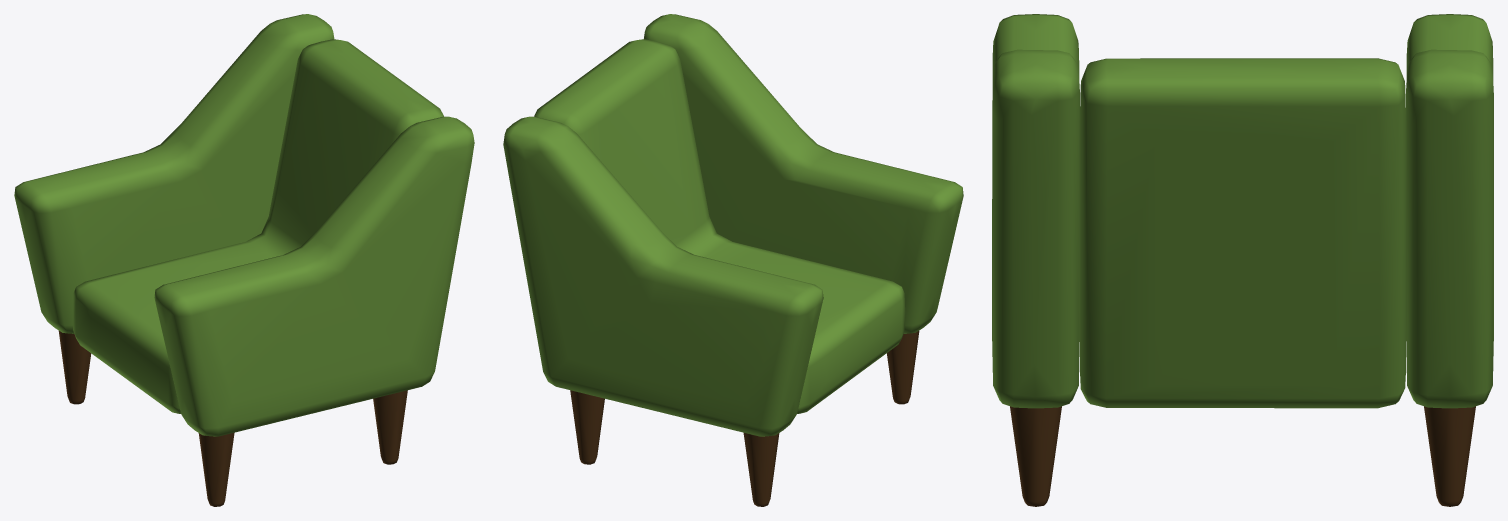
The model's file is armchair_01_green.fbx.
3 views of the same model, side by side, from view 1: azimuth 30°, elevation 25°; view 2: azimuth 150°, elevation 25°; view 3: azimuth 270°, elevation 25° (orthographic). The views are drawn at different scales.
Visible parts, largest first — view 1: armchair_01_green; view 2: armchair_01_green; view 3: armchair_01_green.
Part boxes in pixels (x1,y1,x2,y2): armchair_01_green: (14,14,474,506); armchair_01_green: (503,14,963,506); armchair_01_green: (992,14,1493,506).
Bounding box in the file's own units: 101 × 104 × 98.01.
2 materials, 2 textured.
